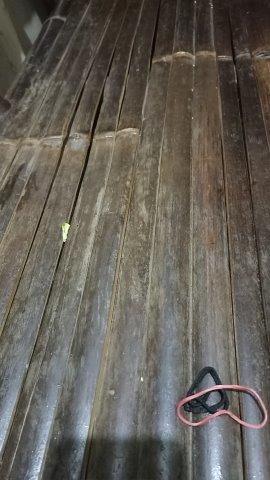karet: (177, 366, 267, 429)
